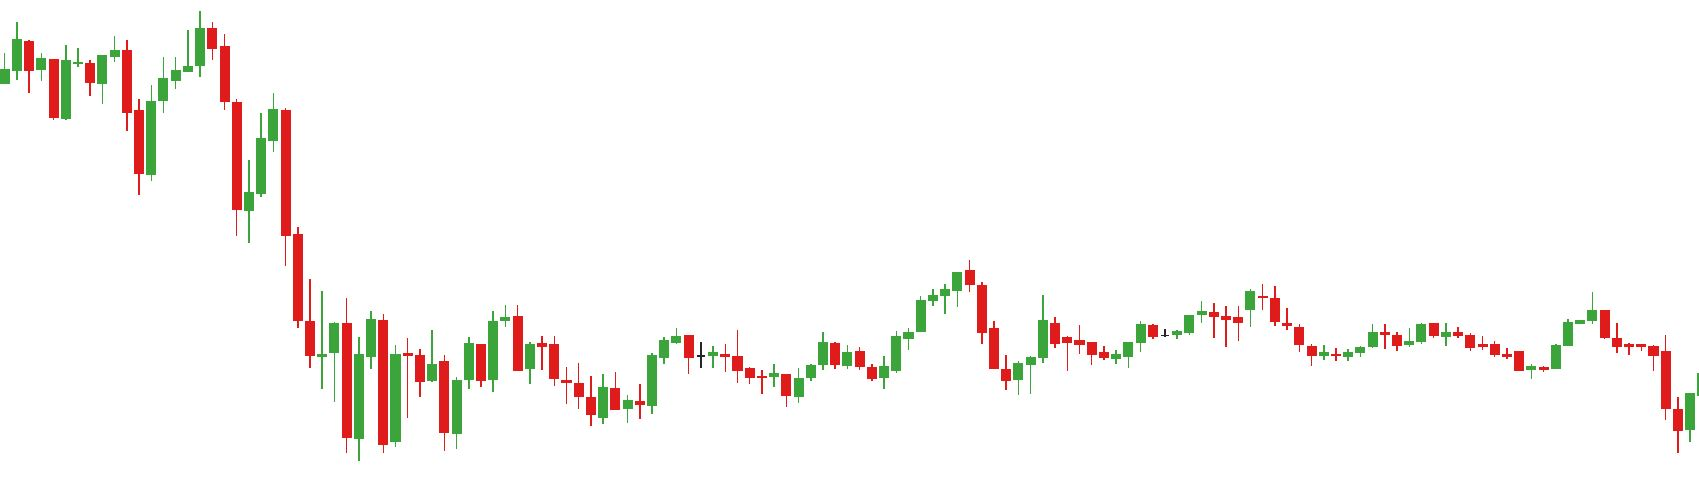buy: (879, 315, 1025, 401)
sell: (109, 5, 220, 111)
